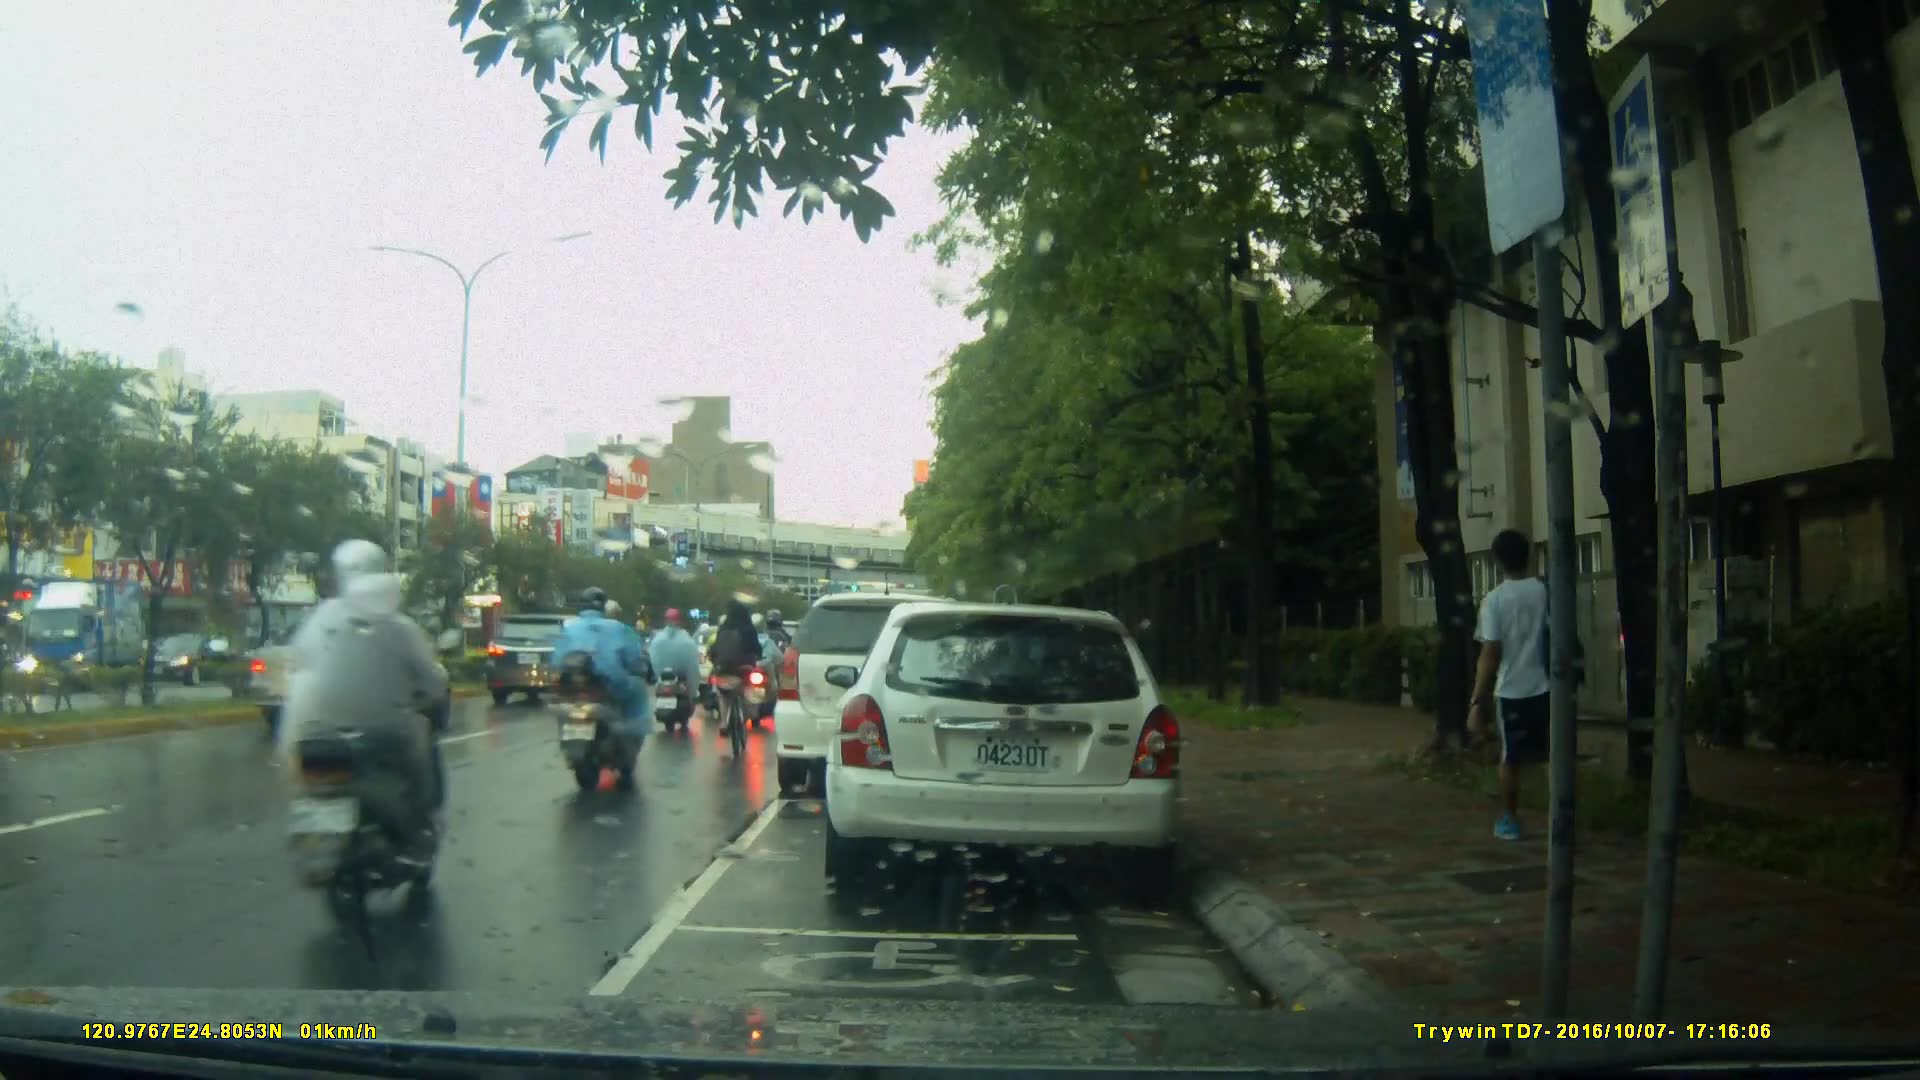pedestrian: (1480, 507, 1596, 885)
rider: (257, 538, 451, 932), (551, 588, 653, 795), (301, 585, 390, 800), (706, 599, 763, 774), (647, 603, 704, 728), (737, 617, 786, 728), (699, 610, 742, 709)
vehicle: (822, 604, 1188, 882), (774, 595, 995, 802), (239, 613, 458, 736), (20, 576, 161, 697), (483, 613, 617, 707), (144, 630, 241, 686)
